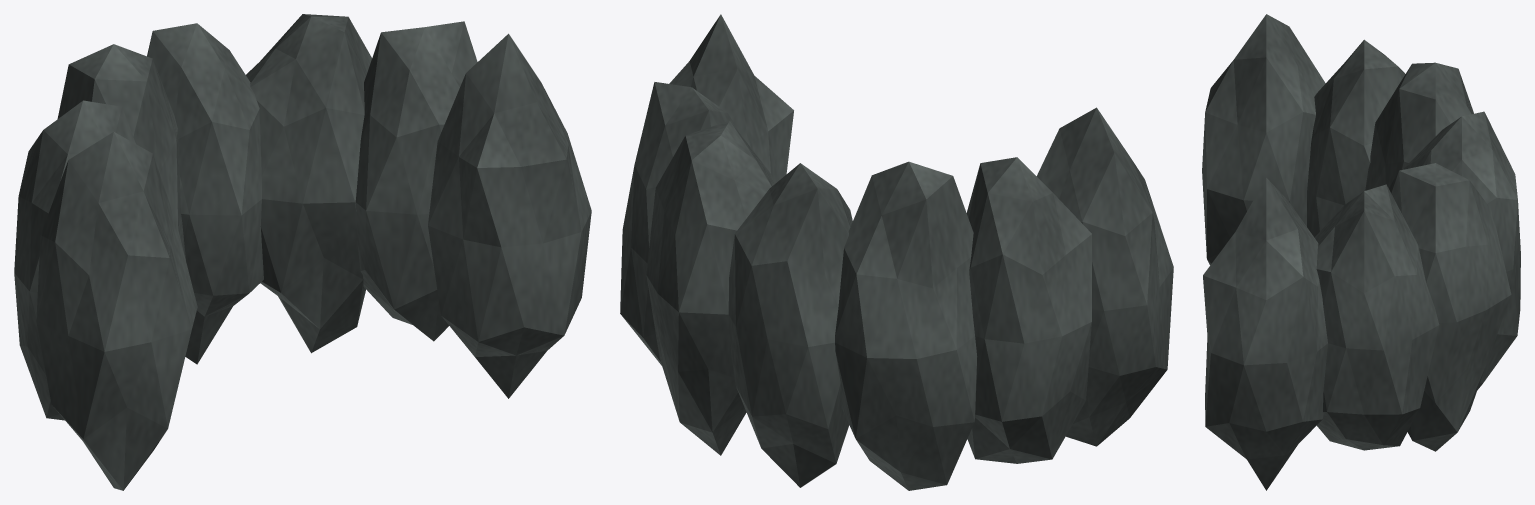
The model's file is cliff_inlet.glb.
3 views of the same model, side by side, from view 1: azimuth 30°, elevation 25°; view 2: azimuth 150°, elevation 25°; view 3: azimuth 270°, elevation 25° (orthographic). The views are drawn at different scales.
Visible parts, largest first — view 1: Inlet.006, Inlet, Inlet.002, Inlet.001, Inlet.003, Inlet.005, Inlet.004; view 2: Inlet.004, Inlet.005, Inlet.003, Inlet.002, Inlet.006, Inlet.001, Inlet; view 3: Inlet, Inlet.001, Inlet.002, Inlet.006, Inlet.005, Inlet.003, Inlet.004.
Part boxes in pixels (left/top/right/bottom): Inlet.006: left=36, top=132, right=197, bottom=490; Inlet: left=428, top=33, right=591, bottom=398; Inlet.002: left=246, top=14, right=371, bottom=353; Inlet.001: left=355, top=21, right=477, bottom=341; Inlet.003: left=147, top=23, right=263, bottom=364; Inlet.005: left=14, top=100, right=135, bottom=420; Inlet.004: left=57, top=44, right=185, bottom=259; Inlet.004: left=835, top=161, right=977, bottom=490; Inlet.005: left=966, top=157, right=1091, bottom=463; Inlet.003: left=728, top=163, right=852, bottom=487; Inlet.002: left=646, top=120, right=774, bottom=455; Inlet.006: left=1036, top=107, right=1173, bottom=446; Inlet.001: left=620, top=82, right=740, bottom=365; Inlet: left=669, top=14, right=793, bottom=183; Inlet: left=1203, top=178, right=1327, bottom=490; Inlet.001: left=1314, top=184, right=1439, bottom=450; Inlet.002: left=1388, top=163, right=1511, bottom=451; Inlet.006: left=1202, top=14, right=1325, bottom=265; Inlet.005: left=1307, top=39, right=1405, bottom=237; Inlet.003: left=1404, top=111, right=1520, bottom=389; Inlet.004: left=1365, top=62, right=1473, bottom=190.
Bounding box in the file's own units: 13.42 × 8.91 × 8.16.
1 material, 1 textured.
